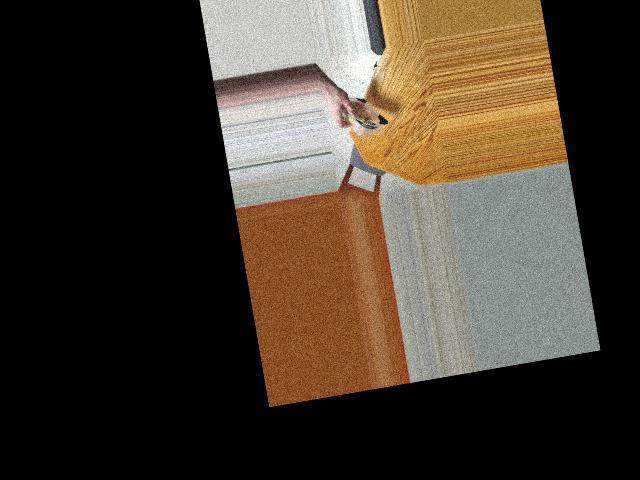cheese: (340, 79, 388, 143)
